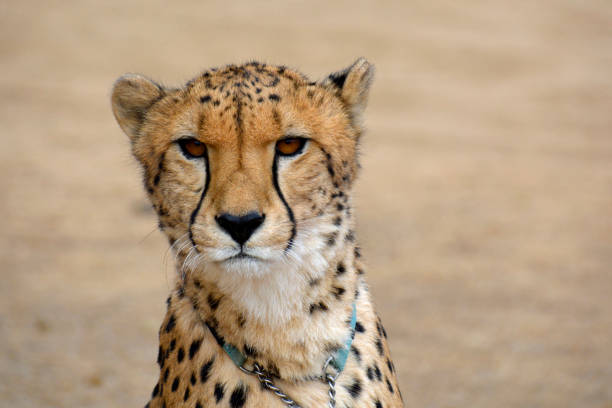cheetah: (66, 46, 394, 301)
